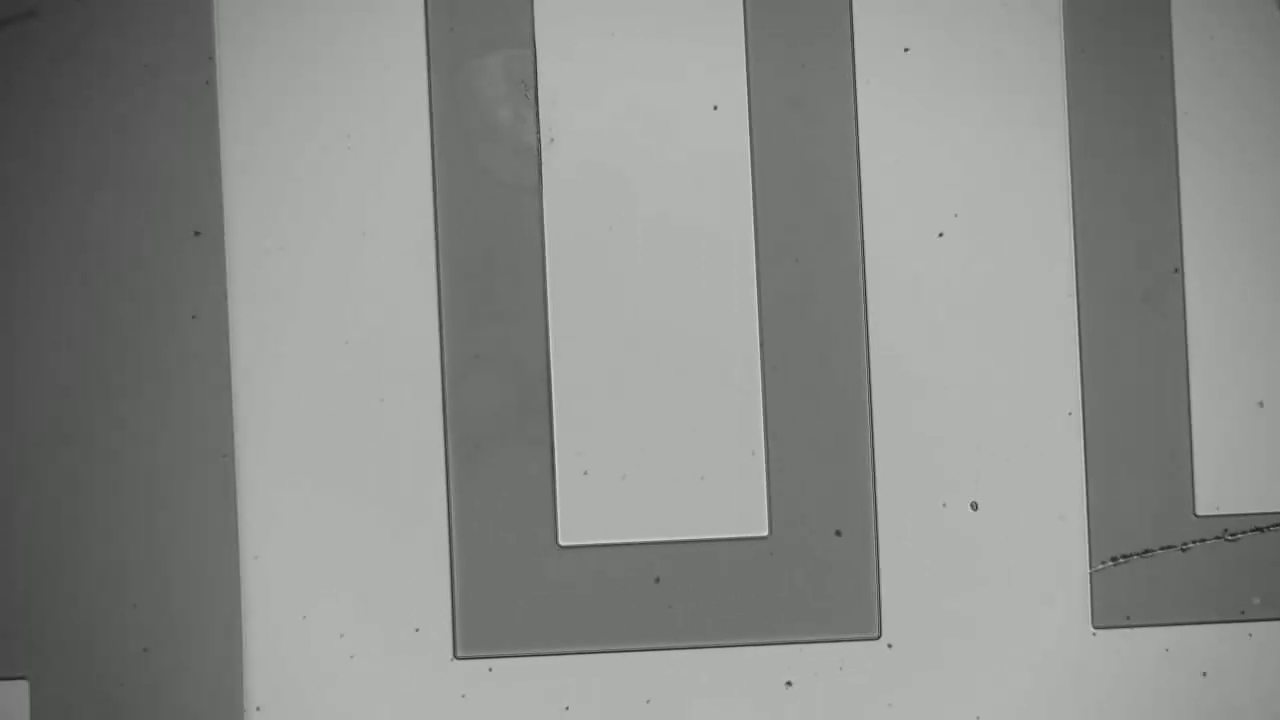scratch: (1106, 525, 1272, 563)
